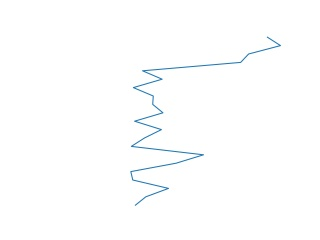crevasseRiverChannelBar: (127, 35, 284, 211)
